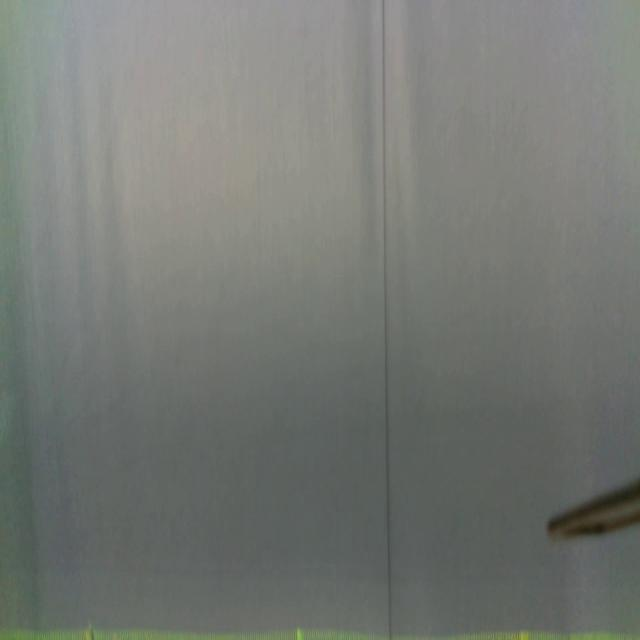crease: (381, 0, 394, 640)
